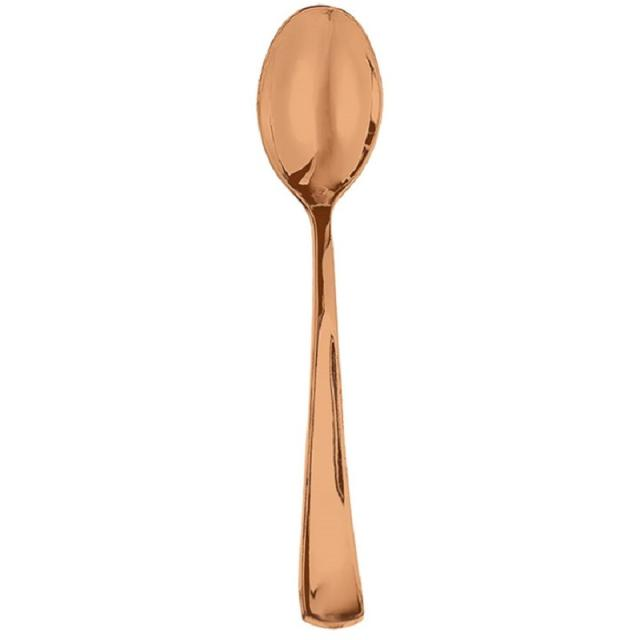spoon: (236, 0, 403, 640)
